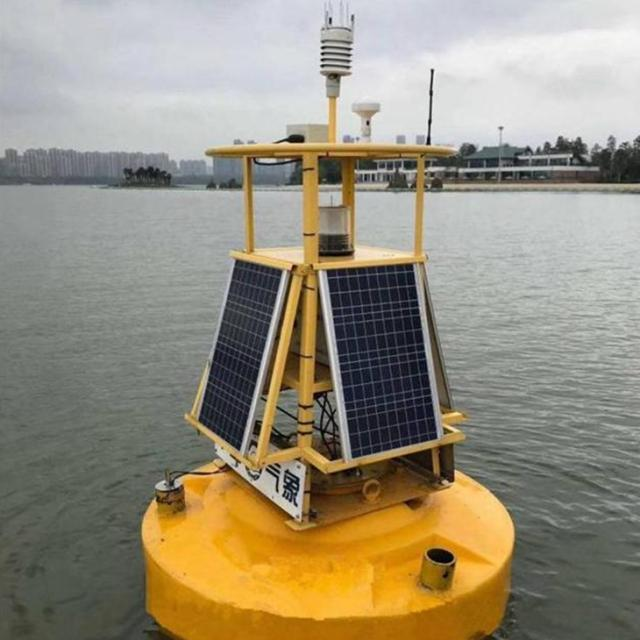buoy: (137, 5, 515, 640)
